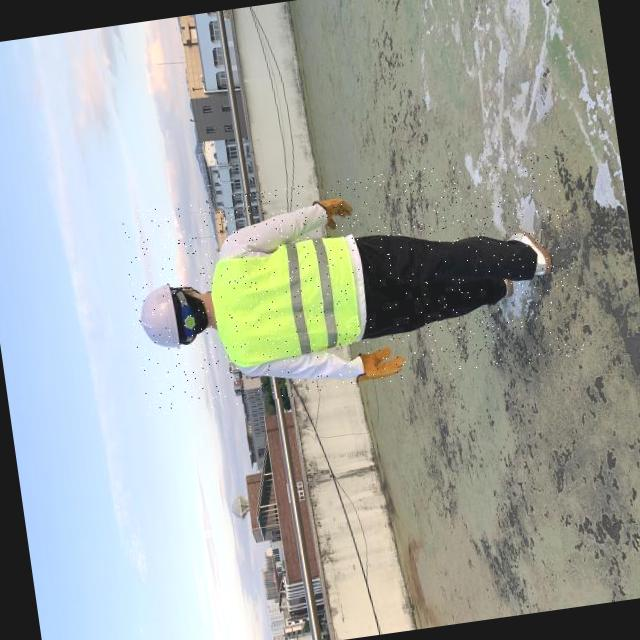gloves: (306, 181, 362, 226), (350, 348, 407, 390)
helmet: (132, 279, 185, 357)
no-boots: (506, 220, 559, 266)
vest: (205, 230, 369, 373)
